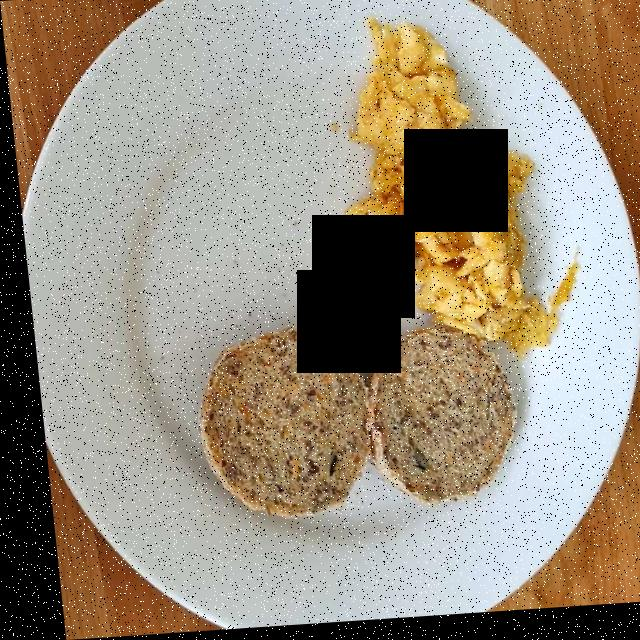bread-wholemeal: (191, 335, 505, 522)
egg-scrambled-prepared: (349, 29, 556, 357)
